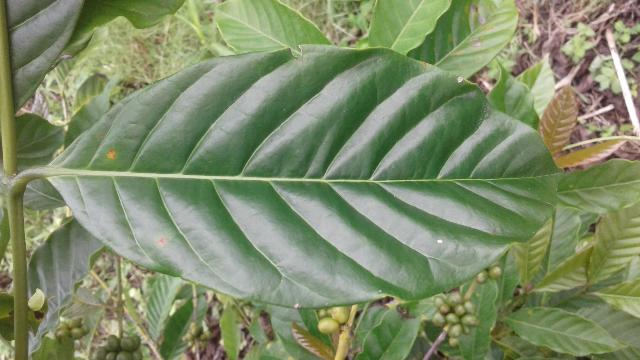rust_level_1: (45, 44, 560, 306)
